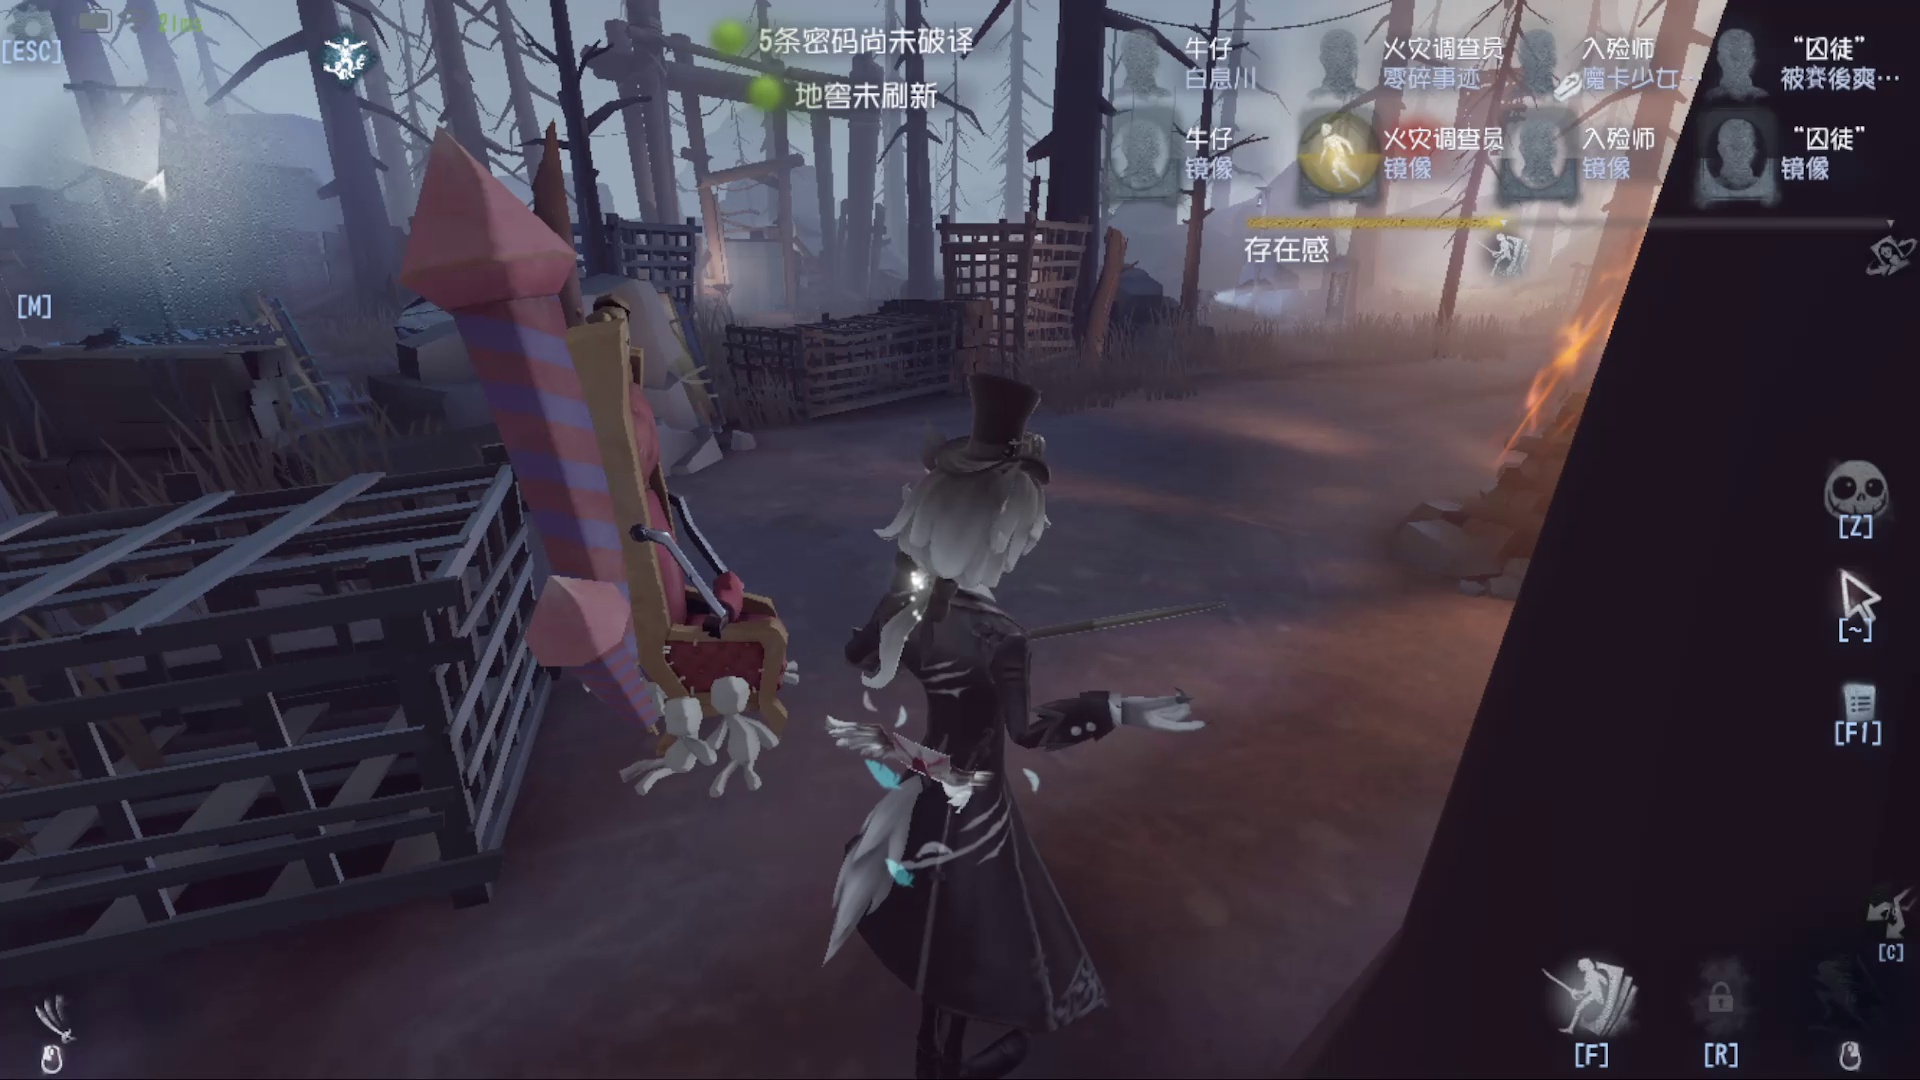狂欢之椅: (380, 124, 836, 804)
